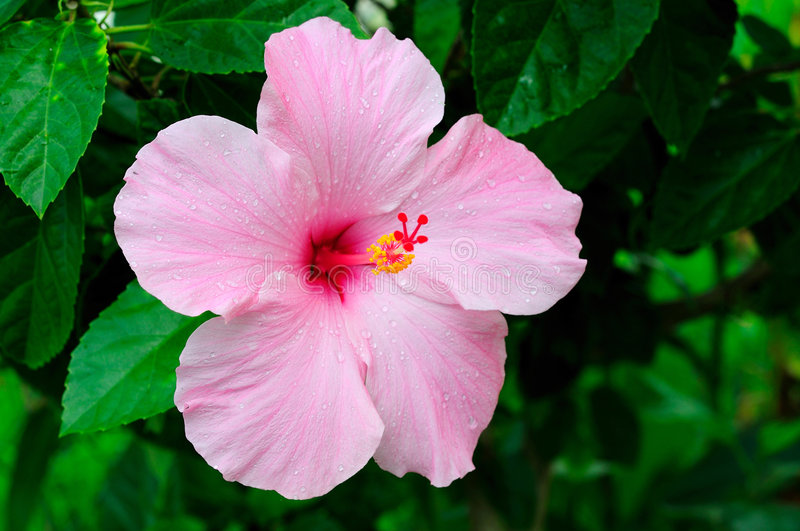Hibiscus: (101, 39, 580, 491)
